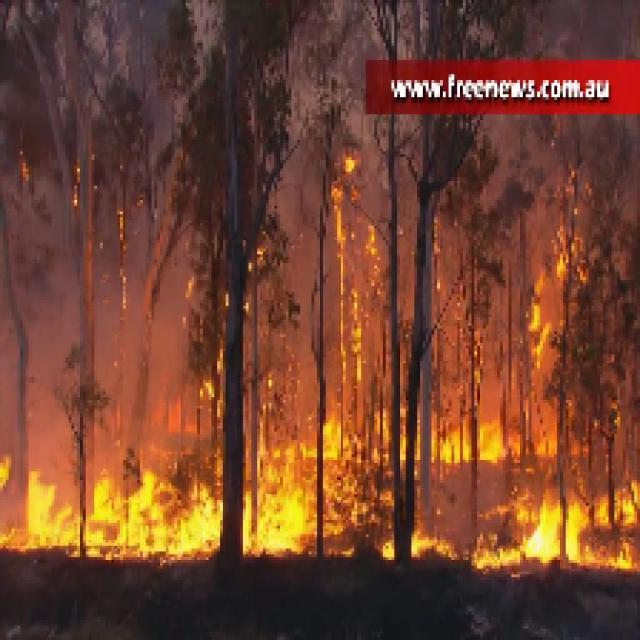Fire: (320, 151, 386, 460), (3, 474, 226, 552), (483, 486, 640, 574), (434, 397, 557, 463), (237, 457, 314, 557)
Smoke: (2, 3, 114, 463)
